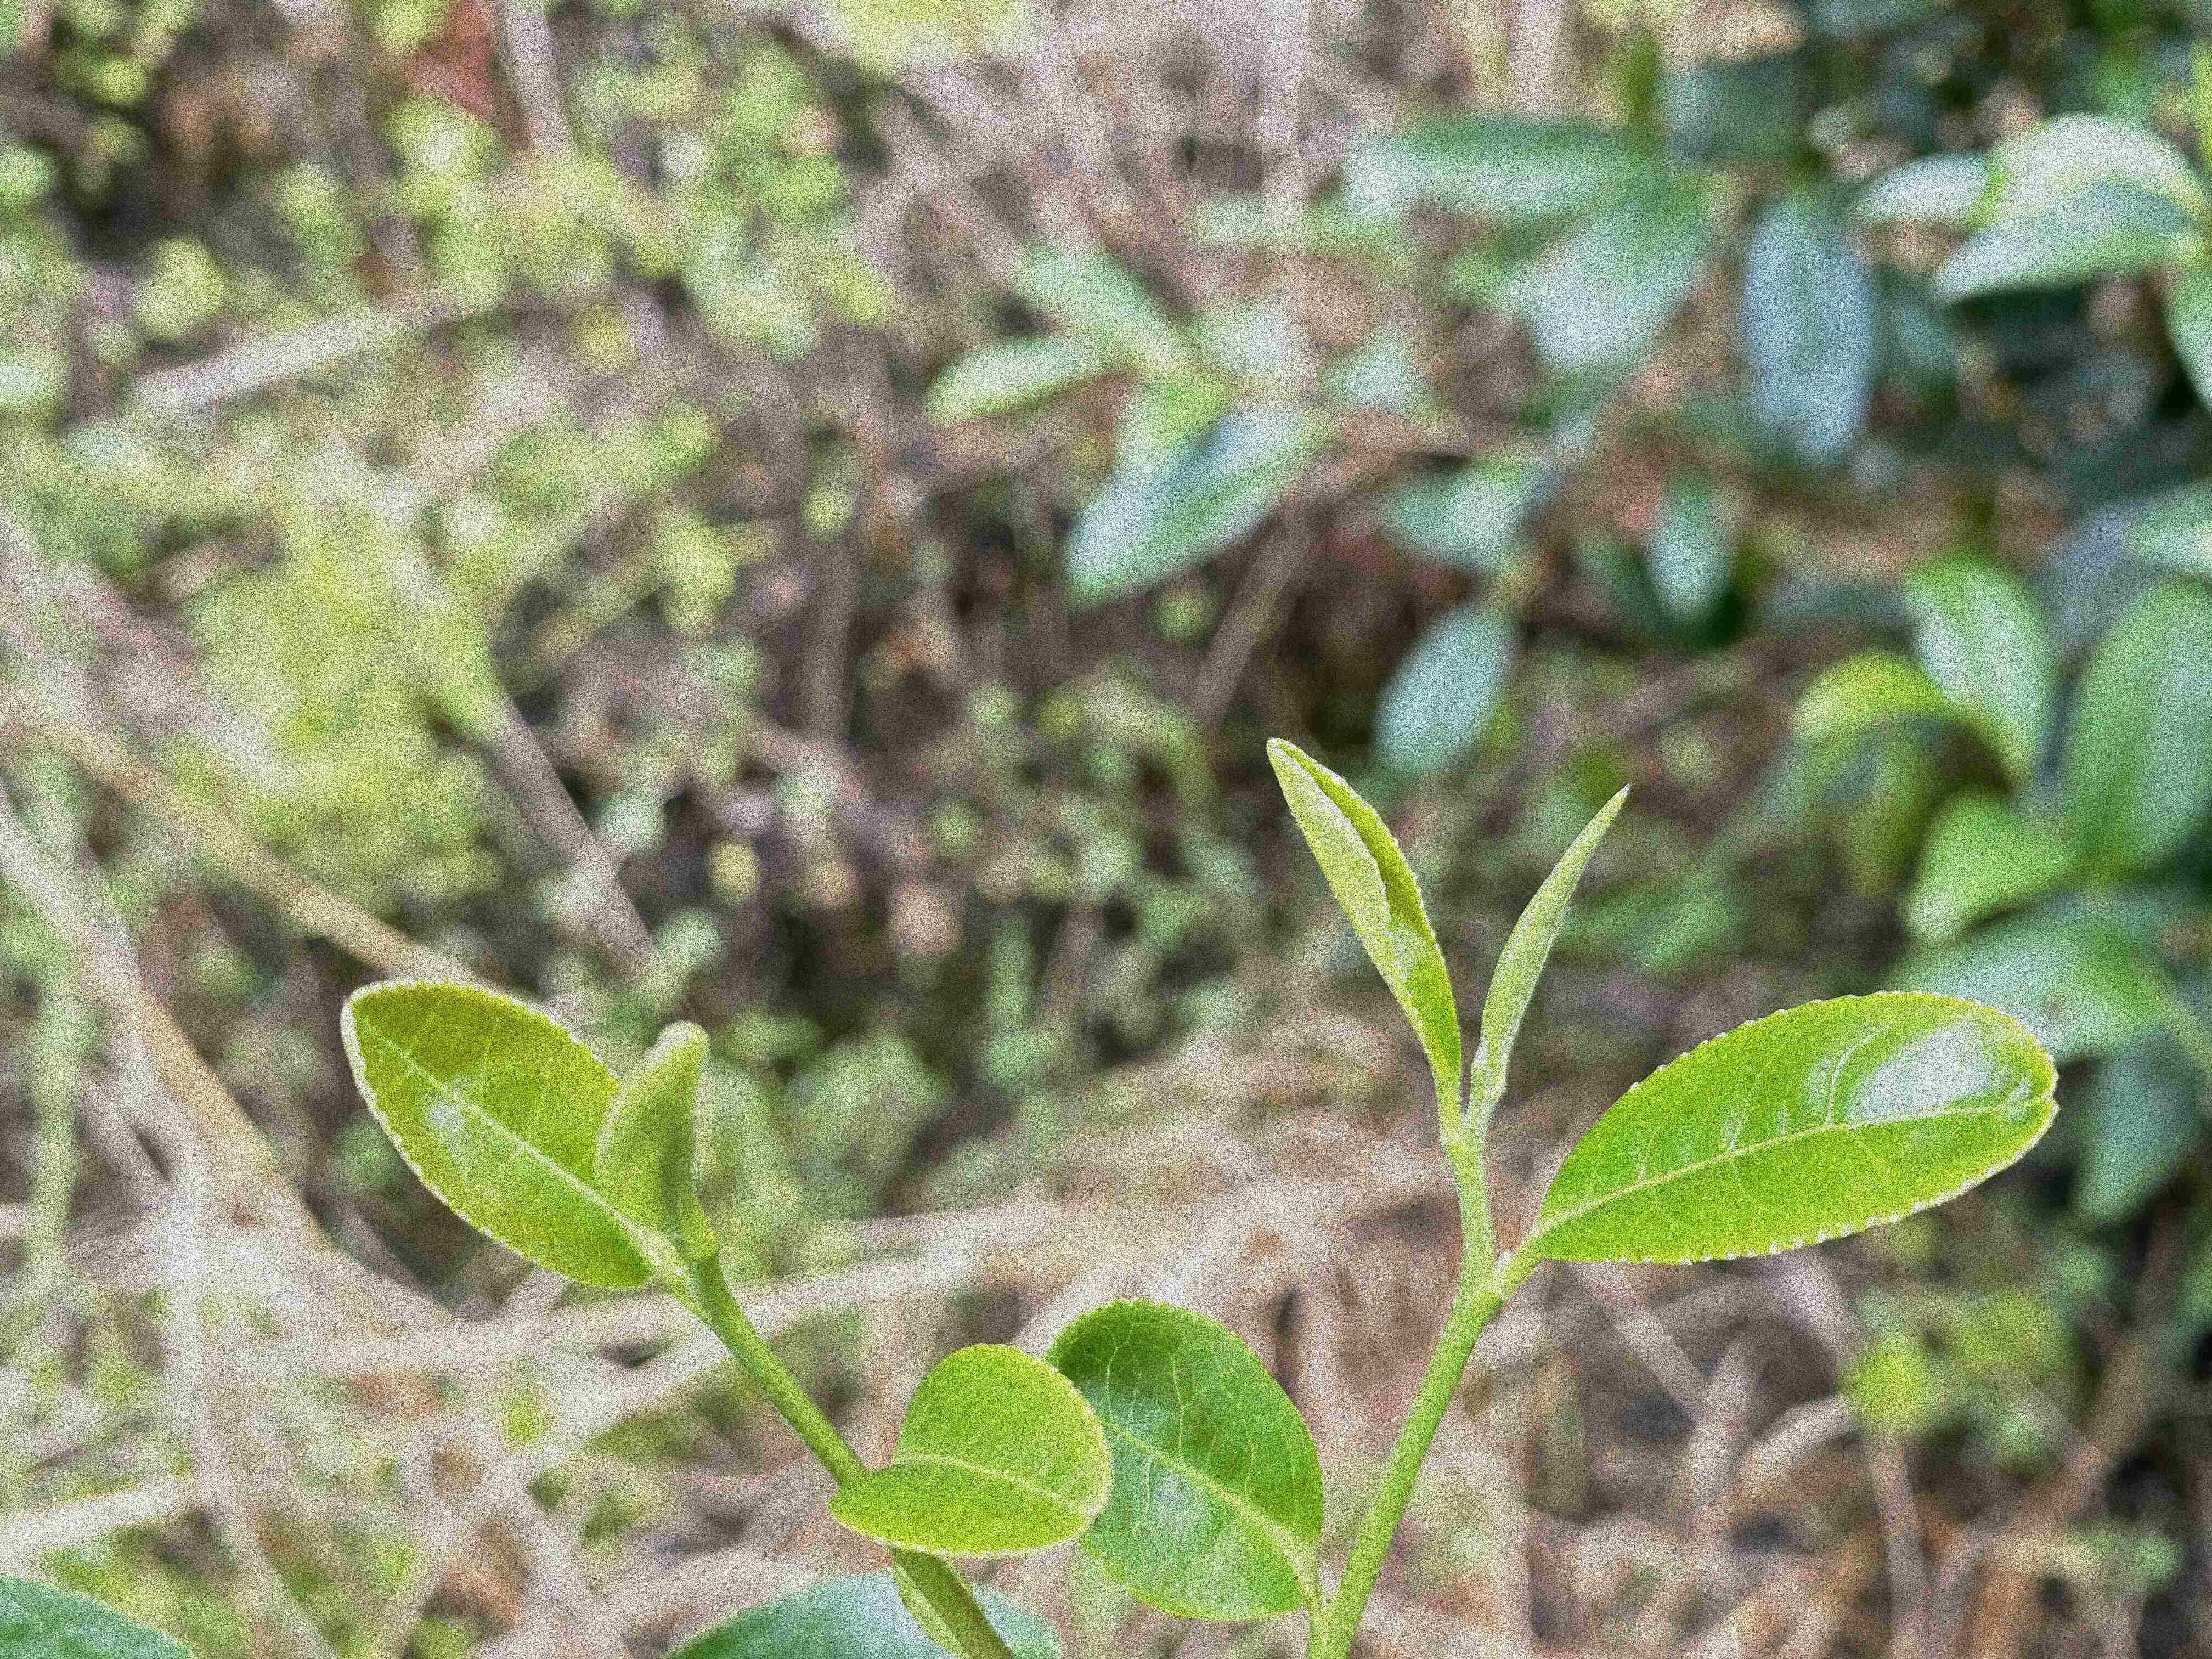healthy: (1531, 990, 2059, 1267), (331, 978, 667, 1291), (1042, 1300, 1325, 1622), (826, 1335, 1108, 1554)
